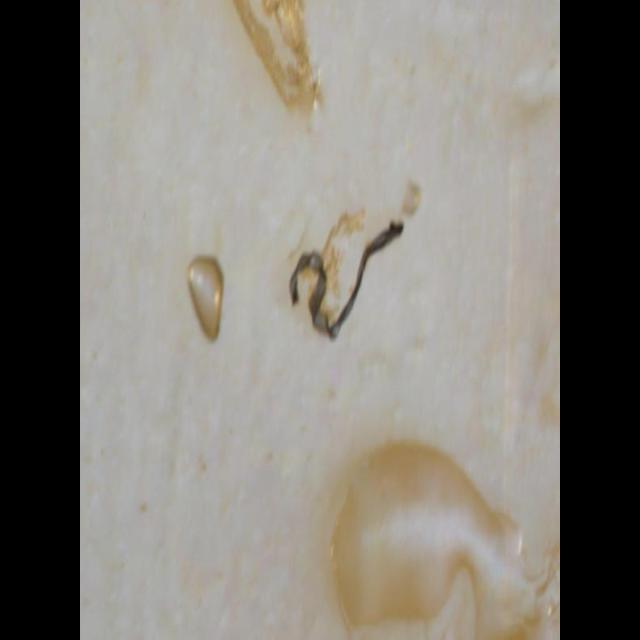Fibre: (286, 208, 410, 362)
